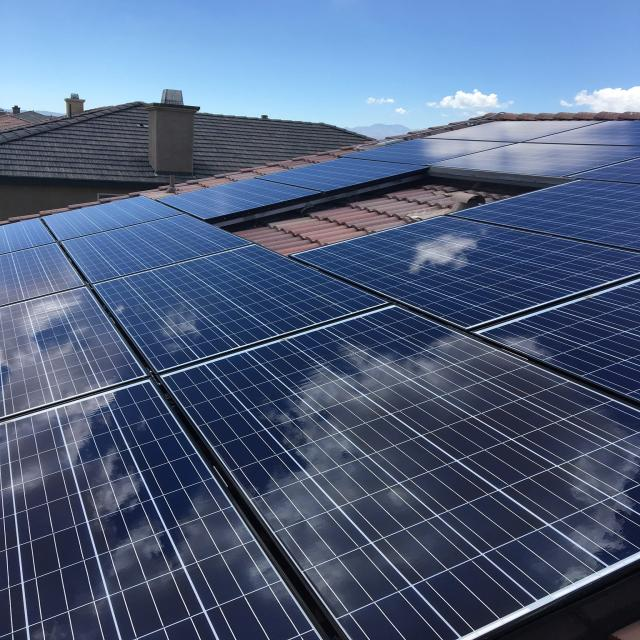clean-solar-panel: (0, 114, 640, 640)
